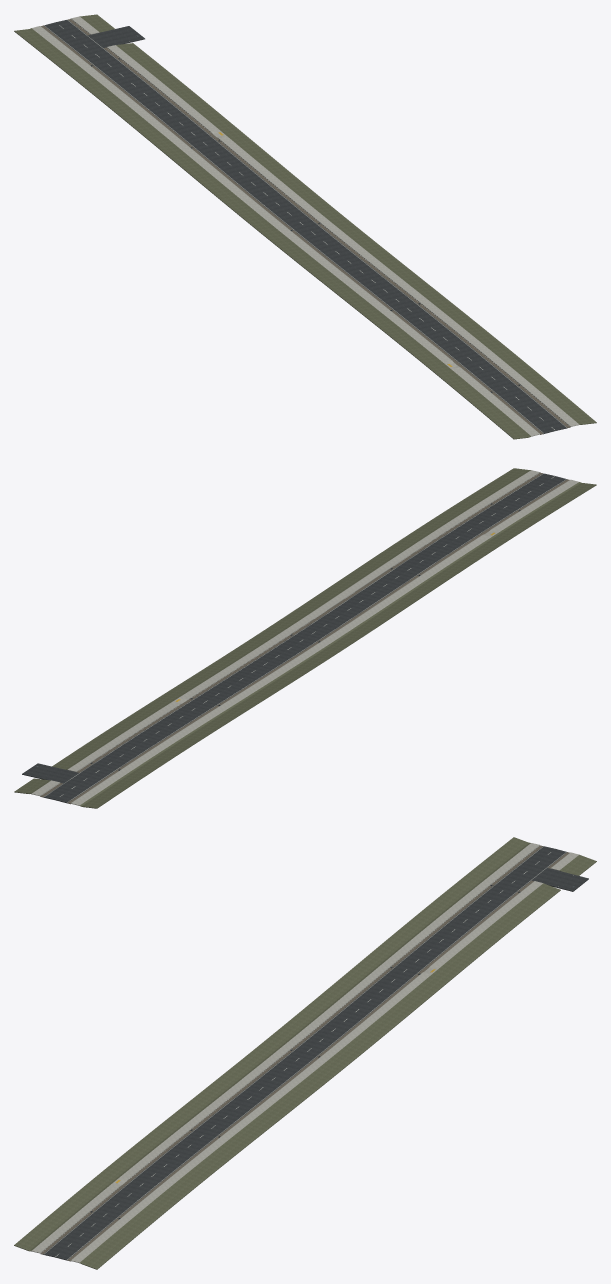
3 views of the same model, one above another, from view 1: azimuth 30°, elevation 25°; view 2: azimuth 150°, elevation 25°; view 3: azimuth 330°, elevation 25° (orthographic).
Parts seen in each view (by area): view 1: VIS_Combined_Soil, VIS_Combined_Asphalt, VIS_Combined_Paving, VIS_Combined_Shoulder, VIS_Combined_Kerb, VIS_Combined_Marking; view 2: VIS_Combined_Soil, VIS_Combined_Asphalt, VIS_Combined_Paving, VIS_Combined_Shoulder, VIS_Combined_Kerb, VIS_Combined_Marking; view 3: VIS_Combined_Soil, VIS_Combined_Asphalt, VIS_Combined_Paving, VIS_Combined_Shoulder, VIS_Combined_Kerb, VIS_Combined_Marking.
Boxes of the visible parts, box(x1,y1,x2,y2) form: VIS_Combined_Soil: box(14, 14, 596, 439); VIS_Combined_Asphalt: box(43, 19, 567, 434); VIS_Combined_Paving: box(32, 16, 579, 436); VIS_Combined_Shoulder: box(41, 19, 570, 434); VIS_Combined_Kerb: box(40, 18, 571, 434); VIS_Combined_Marking: box(44, 20, 566, 433); VIS_Combined_Soil: box(14, 468, 596, 808); VIS_Combined_Asphalt: box(22, 473, 566, 803); VIS_Combined_Paving: box(31, 470, 578, 805); VIS_Combined_Shoulder: box(40, 472, 569, 804); VIS_Combined_Kerb: box(40, 472, 570, 803); VIS_Combined_Marking: box(44, 473, 566, 802); VIS_Combined_Soil: box(14, 837, 596, 1269); VIS_Combined_Asphalt: box(43, 846, 588, 1260); VIS_Combined_Paving: box(31, 843, 578, 1263); VIS_Combined_Shoulder: box(40, 845, 569, 1261); VIS_Combined_Kerb: box(40, 845, 570, 1260); VIS_Combined_Marking: box(44, 846, 573, 1259).
Size of the model in its own units: 27.5 by 12.87 by 250.
9 materials, 9 textured.
